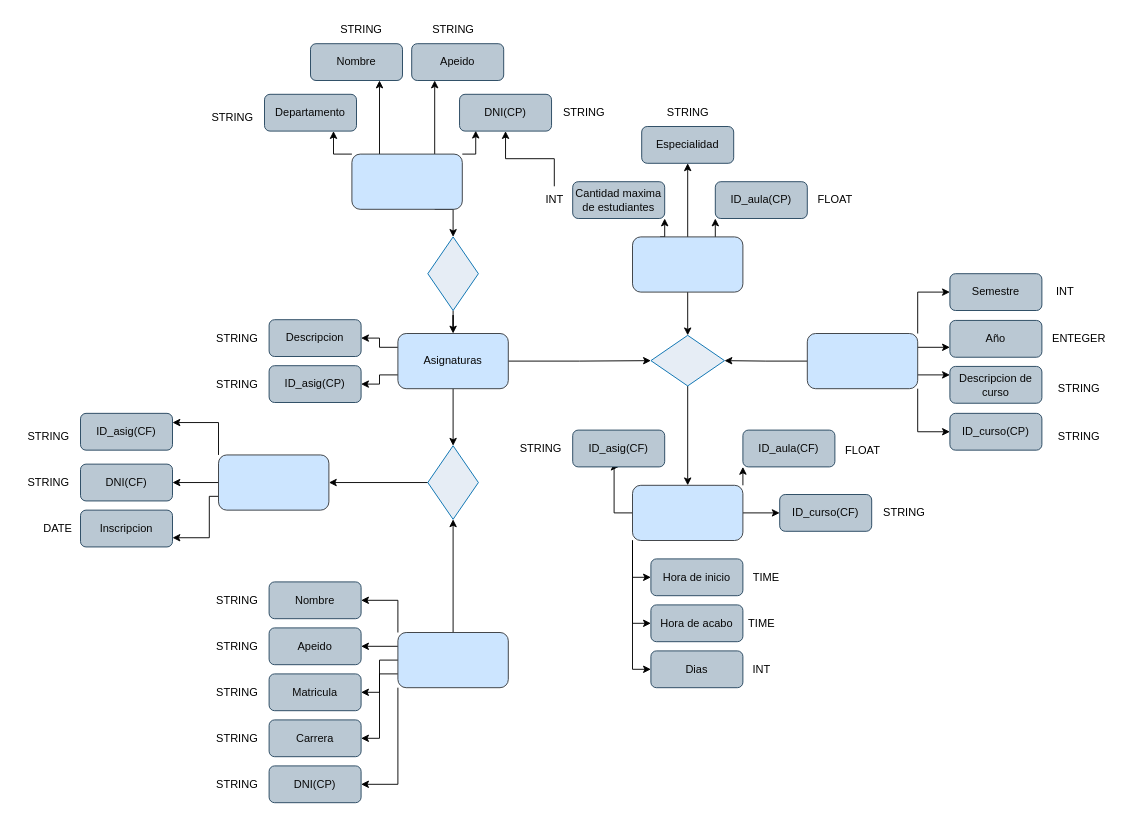
This 1131x819 diagram has some shape labels left out. The centre of each missing label's shape, as x and y in pixels:
"1:M" belongs at (452,273).
"Aulas Horaio" belongs at (687,264).
"Cursos" belongs at (862,361).
"Estudiantes" belongs at (452,660).
"Estudiantes Asignaturas" belongs at (273,482).
"Horaio" belongs at (687,512).
"N:M" belongs at (452,482).
"N:M:P" belongs at (687,360).
"Profesores" belongs at (406,181).
